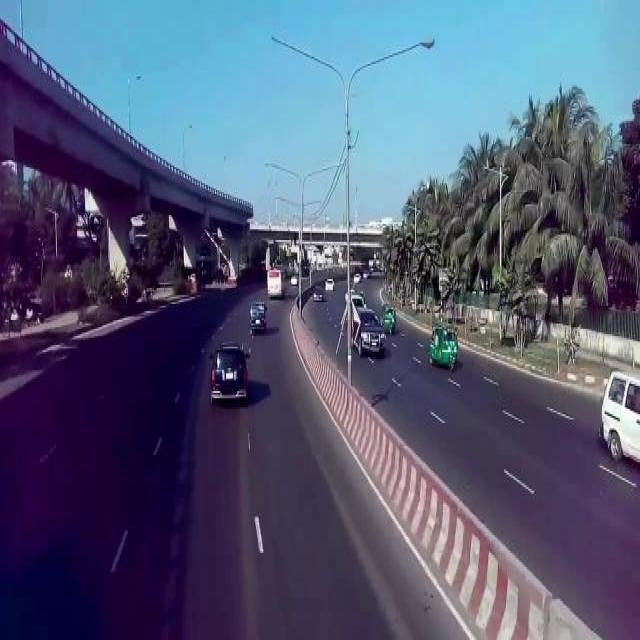15: (354, 307, 386, 358)
17: (427, 318, 459, 375), (380, 303, 396, 337)
5: (207, 341, 251, 409)
9: (247, 295, 267, 334)
Truck: (266, 266, 286, 300)
